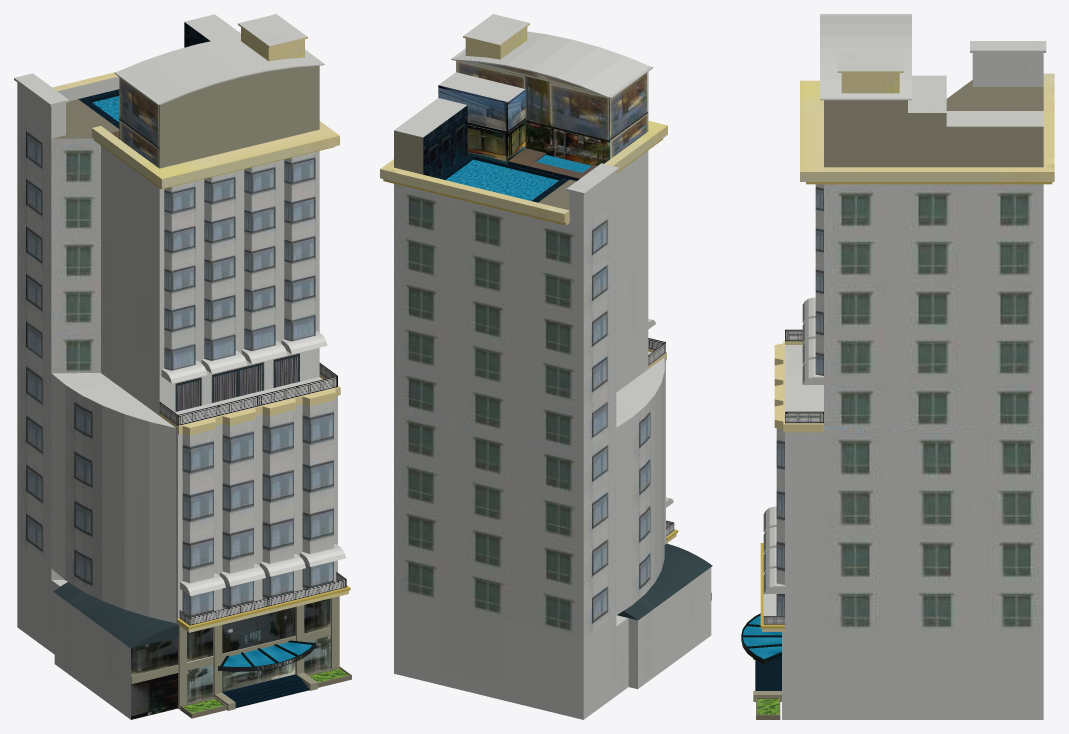
3 renders of one model, left to right at view 1: azimuth 30°, elevation 25°; view 2: azimuth 150°, elevation 25°; view 3: azimuth 270°, elevation 25°, orthographic. The views are drawn at different scales.
Visible parts, largest first — view 1: HN099___La_Casa_Hanoi_Hotel; view 2: HN099___La_Casa_Hanoi_Hotel; view 3: HN099___La_Casa_Hanoi_Hotel.
Boxes of the visible parts, bbox=[...] form: HN099___La_Casa_Hanoi_Hotel: bbox=[14, 14, 351, 719]; HN099___La_Casa_Hanoi_Hotel: bbox=[380, 14, 712, 719]; HN099___La_Casa_Hanoi_Hotel: bbox=[741, 14, 1054, 719].
Bounding box in the file's own units: 20.35 × 55.13 × 24.25.
Materials: 1 (1 with a texture image).
